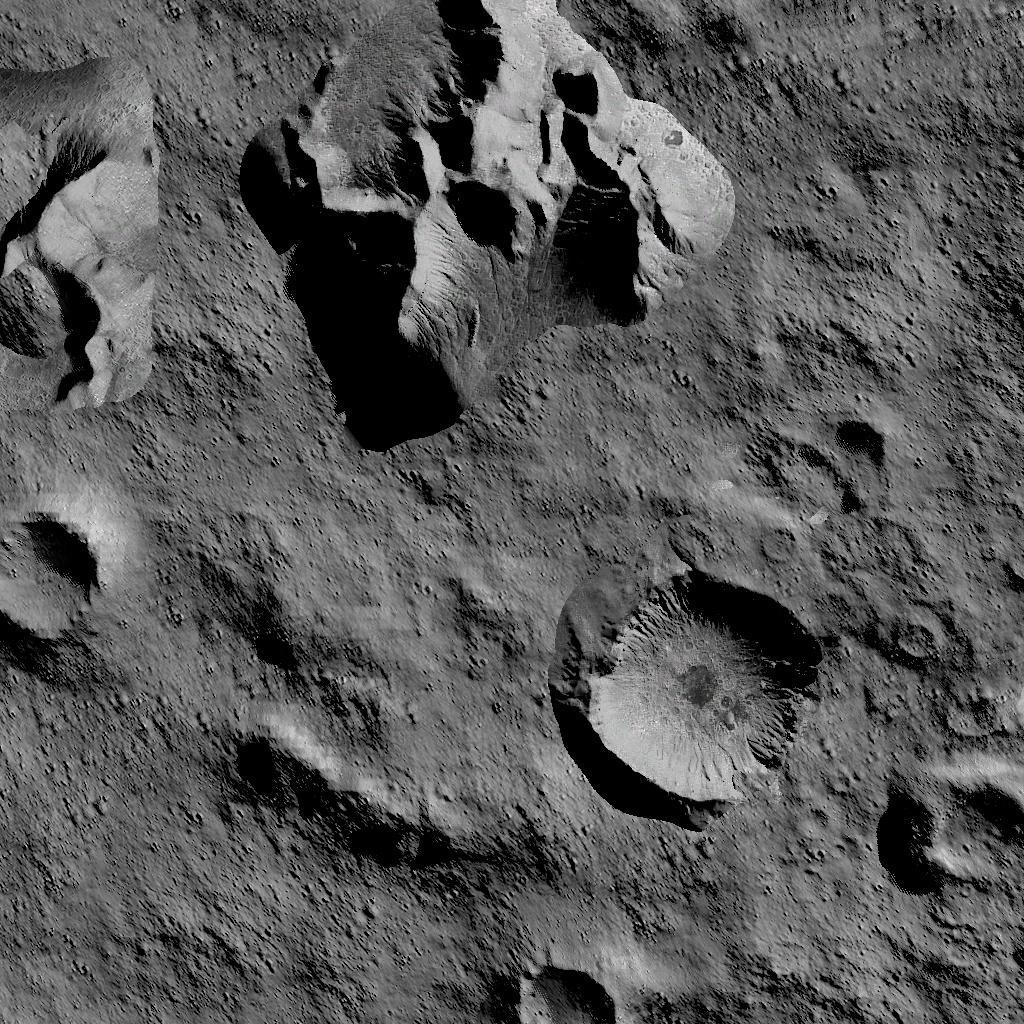Boulders: (246, 0, 733, 453), (0, 58, 161, 416), (221, 718, 568, 872)
Crater: (586, 568, 820, 808), (878, 760, 1024, 898), (1, 512, 108, 646), (508, 955, 623, 1024)
Plan surface: (751, 0, 1024, 408), (0, 660, 211, 1024), (224, 882, 496, 1024)
